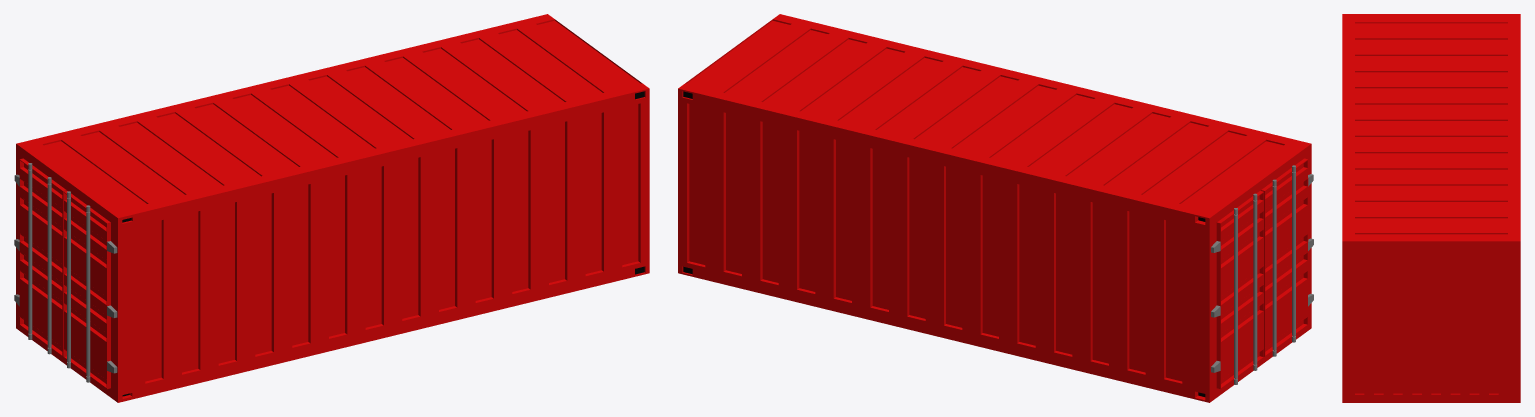
The model's file is Container.fbx.
3 renders of one model, left to right at view 1: azimuth 30°, elevation 25°; view 2: azimuth 150°, elevation 25°; view 3: azimuth 270°, elevation 25°, orthographic. The views are drawn at different scales.
Visible parts, largest first — view 1: Cube; view 2: Cube; view 3: Cube.
Boxes of the visible parts, left/top/right/bottom form: Cube: left=14, top=14, right=649, bottom=402; Cube: left=678, top=14, right=1313, bottom=402; Cube: left=1342, top=14, right=1520, bottom=402.
Bounding box in the file's own units: 611 × 200 × 200.
